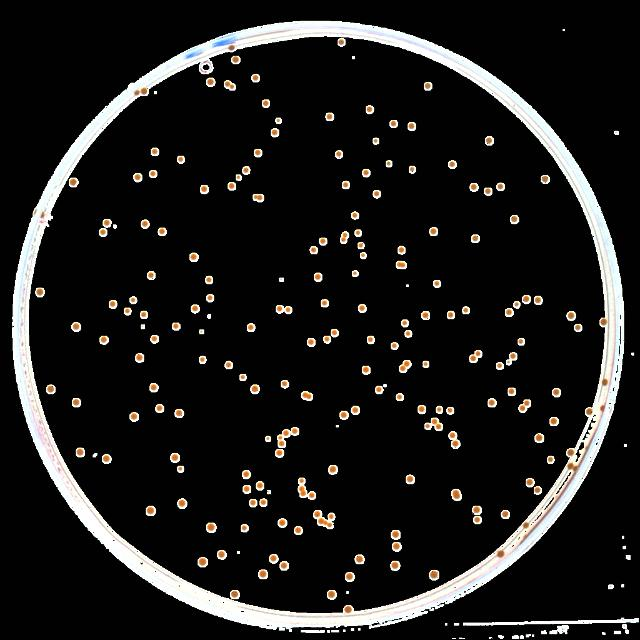colony: (451, 489, 462, 501), (448, 158, 458, 170), (398, 260, 408, 270), (361, 168, 371, 178), (146, 506, 156, 516), (329, 465, 339, 475), (429, 570, 439, 580), (566, 447, 576, 457), (200, 184, 208, 196), (252, 194, 264, 202), (472, 235, 481, 245), (548, 418, 558, 427), (207, 523, 216, 533), (150, 148, 160, 156), (252, 74, 260, 84), (36, 288, 44, 298), (318, 237, 328, 245), (422, 310, 430, 320), (342, 179, 350, 189), (424, 82, 432, 92), (258, 570, 268, 578), (356, 554, 364, 564), (346, 572, 354, 582), (390, 561, 400, 569), (406, 474, 414, 484), (501, 511, 511, 519), (408, 164, 416, 173), (339, 410, 348, 418), (473, 506, 482, 514), (69, 179, 77, 187), (150, 170, 158, 178), (134, 174, 142, 182), (140, 220, 148, 228), (232, 56, 240, 64), (243, 167, 251, 175), (352, 212, 360, 220), (390, 342, 398, 350), (408, 123, 416, 131), (512, 216, 520, 224), (469, 355, 477, 363), (534, 296, 542, 304), (496, 362, 504, 370), (553, 389, 561, 397), (518, 405, 526, 413), (102, 456, 110, 464), (171, 454, 179, 462), (178, 500, 186, 508), (278, 518, 286, 526), (218, 550, 226, 558), (280, 562, 288, 570), (344, 604, 352, 612), (436, 423, 444, 431), (452, 440, 460, 448), (526, 478, 534, 486), (535, 434, 543, 442), (547, 455, 555, 463), (598, 405, 606, 413), (399, 363, 406, 372), (429, 227, 436, 236), (359, 304, 365, 314), (327, 111, 333, 121), (366, 104, 372, 114), (486, 136, 492, 146), (506, 307, 512, 317), (586, 406, 592, 416), (75, 450, 85, 456), (105, 218, 112, 226), (255, 150, 262, 158), (239, 374, 247, 381), (175, 410, 182, 418), (200, 558, 207, 566), (328, 592, 337, 598), (392, 544, 401, 550), (176, 157, 184, 163), (208, 78, 216, 84), (140, 88, 146, 96), (228, 183, 234, 191), (72, 323, 78, 331), (148, 272, 156, 278), (191, 254, 197, 262), (152, 384, 158, 392), (132, 413, 138, 421), (47, 386, 55, 392), (323, 336, 329, 344), (322, 301, 330, 307), (368, 336, 374, 344), (376, 386, 382, 394), (404, 359, 410, 367), (422, 360, 428, 368), (434, 280, 440, 288), (336, 150, 342, 158), (374, 190, 380, 198), (389, 122, 397, 128), (542, 176, 548, 184), (476, 350, 482, 358), (568, 312, 574, 320), (600, 319, 606, 327), (510, 352, 518, 358), (490, 398, 496, 406), (242, 524, 248, 532), (243, 486, 251, 492), (256, 481, 262, 489), (294, 528, 302, 534), (329, 514, 335, 522), (316, 519, 324, 525), (302, 490, 308, 498), (276, 450, 282, 458), (278, 441, 286, 447), (232, 590, 238, 598), (270, 554, 276, 562), (350, 406, 356, 414), (418, 406, 426, 412), (448, 432, 456, 438), (534, 488, 542, 494), (372, 138, 380, 144), (600, 377, 606, 385), (158, 228, 164, 235), (173, 324, 179, 331), (225, 361, 232, 367), (308, 339, 314, 346), (354, 230, 360, 237), (469, 184, 476, 190), (498, 183, 504, 190), (243, 471, 250, 477), (260, 499, 266, 506), (158, 404, 162, 414), (510, 387, 514, 397), (100, 230, 106, 236), (231, 84, 237, 90), (263, 100, 269, 106), (108, 302, 114, 308), (206, 276, 212, 282), (193, 306, 199, 312), (124, 308, 130, 314), (151, 336, 157, 342), (138, 355, 144, 361), (74, 400, 80, 406), (278, 306, 284, 312), (287, 308, 293, 314), (340, 237, 346, 243), (358, 241, 364, 247), (360, 252, 366, 258), (396, 395, 402, 401), (402, 319, 408, 325), (448, 312, 454, 318), (387, 160, 393, 166), (338, 40, 344, 46), (486, 189, 492, 195), (463, 306, 469, 312), (513, 301, 519, 307), (574, 324, 580, 330), (518, 340, 524, 346), (525, 400, 531, 406), (250, 500, 256, 506), (315, 512, 321, 518), (328, 522, 334, 528), (300, 478, 306, 484), (392, 532, 398, 538), (446, 408, 452, 414), (424, 423, 430, 429), (228, 46, 234, 52), (498, 550, 504, 556), (274, 128, 278, 136), (208, 294, 212, 302), (102, 336, 106, 344), (252, 386, 256, 394), (312, 246, 316, 254), (364, 366, 368, 374), (400, 246, 404, 254), (296, 486, 304, 490), (308, 494, 316, 498), (438, 406, 442, 414), (332, 329, 336, 336), (130, 298, 134, 304), (141, 312, 147, 316), (200, 328, 204, 334), (198, 358, 204, 362), (248, 326, 254, 330), (302, 392, 306, 398), (307, 396, 313, 400), (343, 230, 347, 236), (353, 270, 357, 276), (405, 333, 411, 337), (524, 296, 528, 302), (179, 466, 183, 472), (324, 520, 328, 526), (264, 436, 270, 440), (278, 433, 282, 439), (291, 429, 295, 435), (432, 418, 436, 424), (474, 518, 480, 522), (275, 118, 281, 122), (568, 462, 572, 468), (574, 467, 578, 473), (225, 82, 229, 86), (236, 176, 240, 180), (282, 382, 286, 386), (316, 274, 320, 278), (507, 361, 511, 365), (286, 430, 290, 434), (134, 90, 138, 94), (524, 522, 528, 526)
